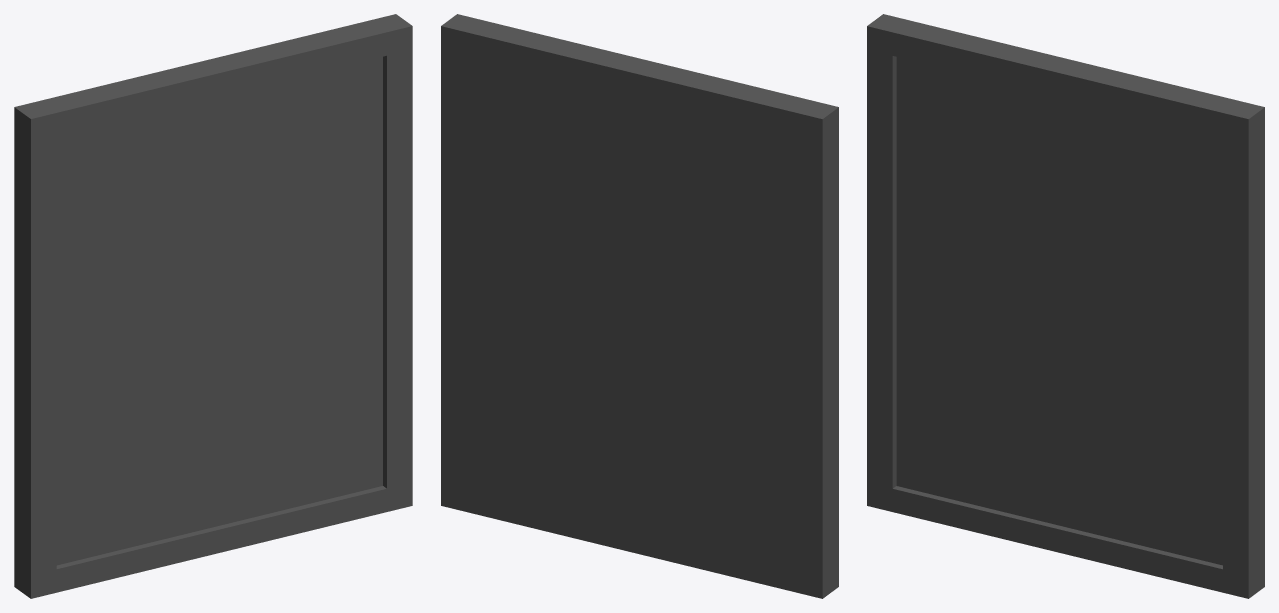
The model's file is Itr_Obj_Frame2_03.FBX.
The picture shows the model from 3 angles, left to right: view 1: azimuth 30°, elevation 25°; view 2: azimuth 150°, elevation 25°; view 3: azimuth 330°, elevation 25°; orthographic projection.
Parts seen in each view (by area): view 1: Itr_Obj_Frame2_03; view 2: Itr_Obj_Frame2_03; view 3: Itr_Obj_Frame2_03.
Boxes of the visible parts, left/top/right/bottom form: Itr_Obj_Frame2_03: left=14, top=14, right=412, bottom=598; Itr_Obj_Frame2_03: left=441, top=14, right=838, bottom=598; Itr_Obj_Frame2_03: left=867, top=14, right=1264, bottom=598.
Size of the model in its own units: 31.11 by 37.35 by 2.33.
